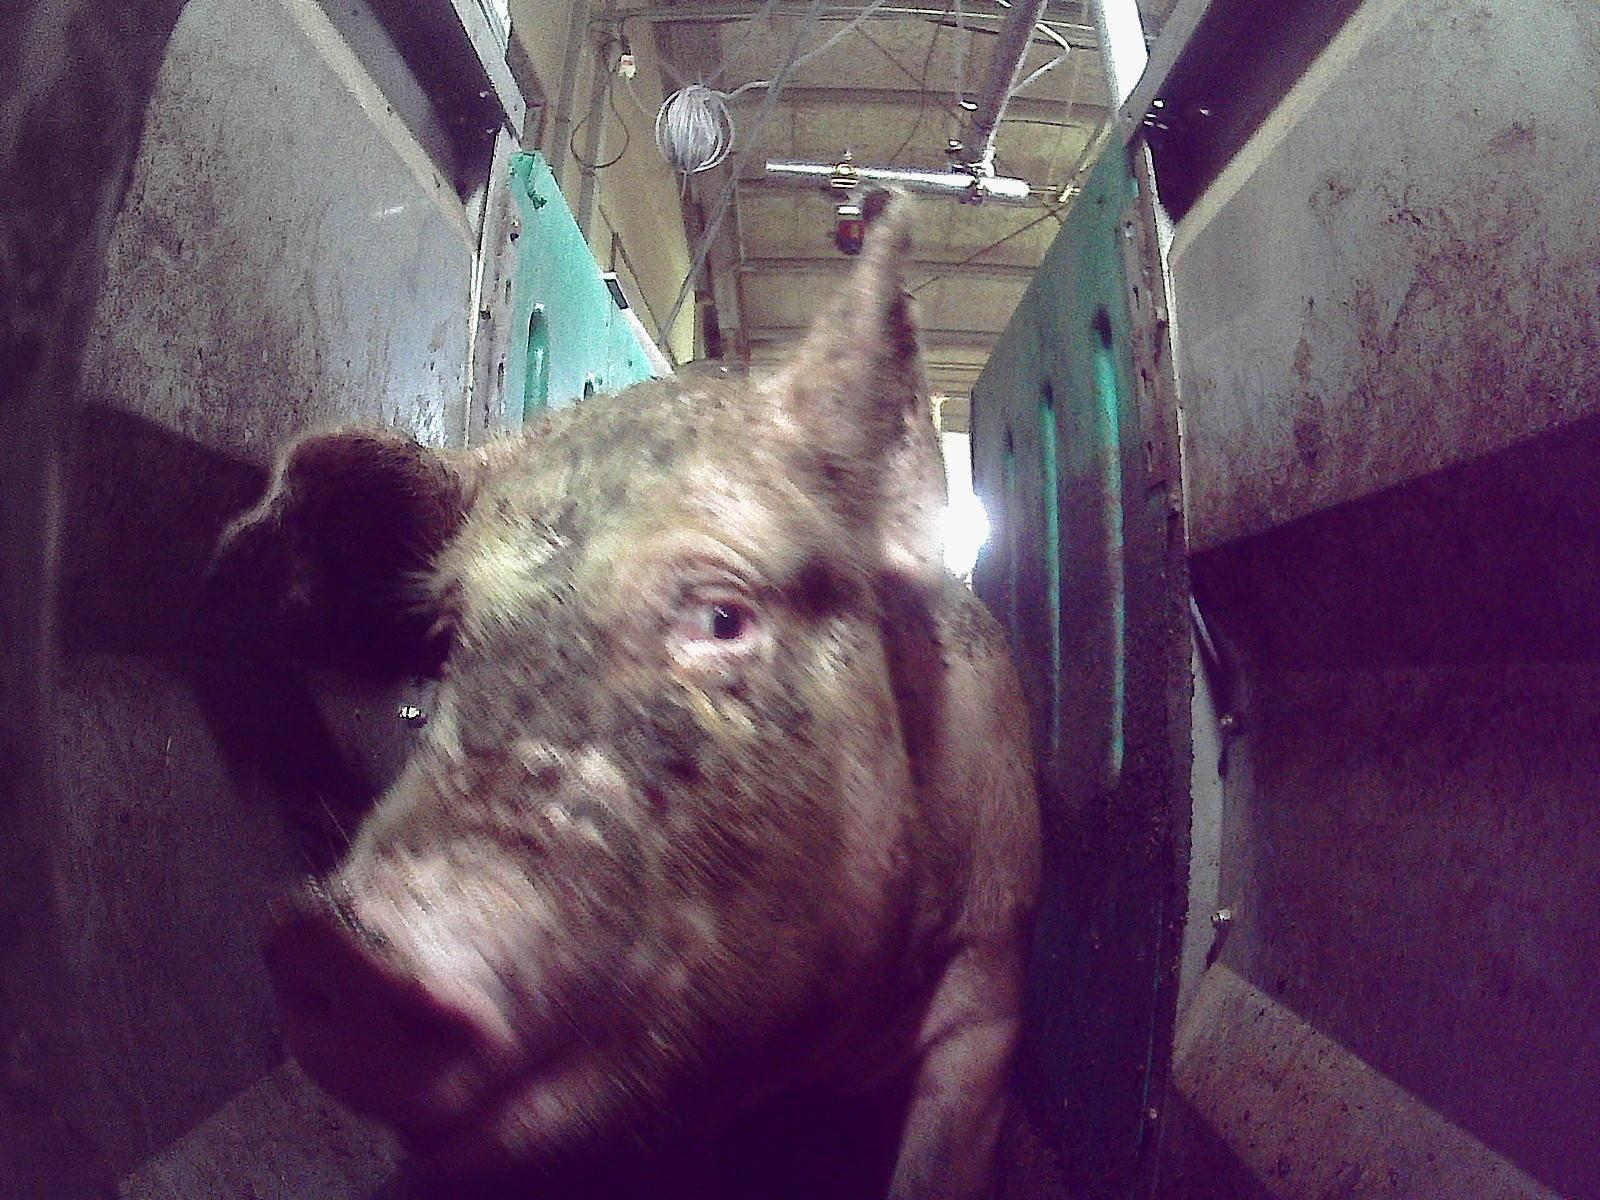Face: (259, 372, 921, 1182)
